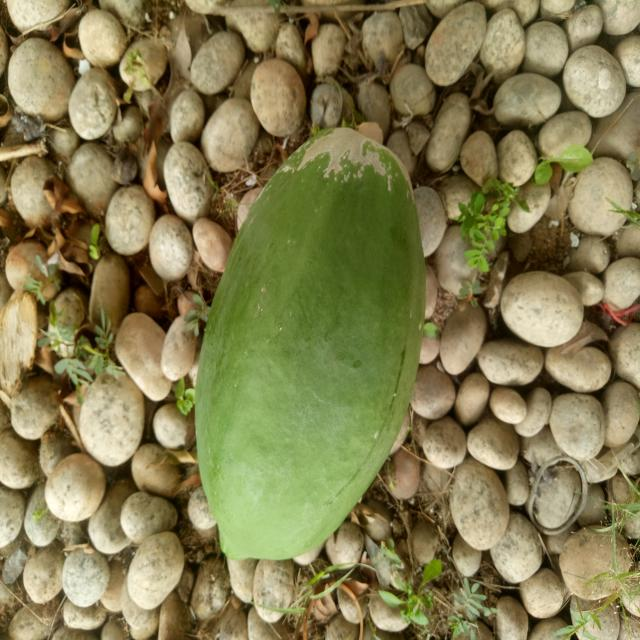Pepaya unrippen: (153, 125, 434, 566)
